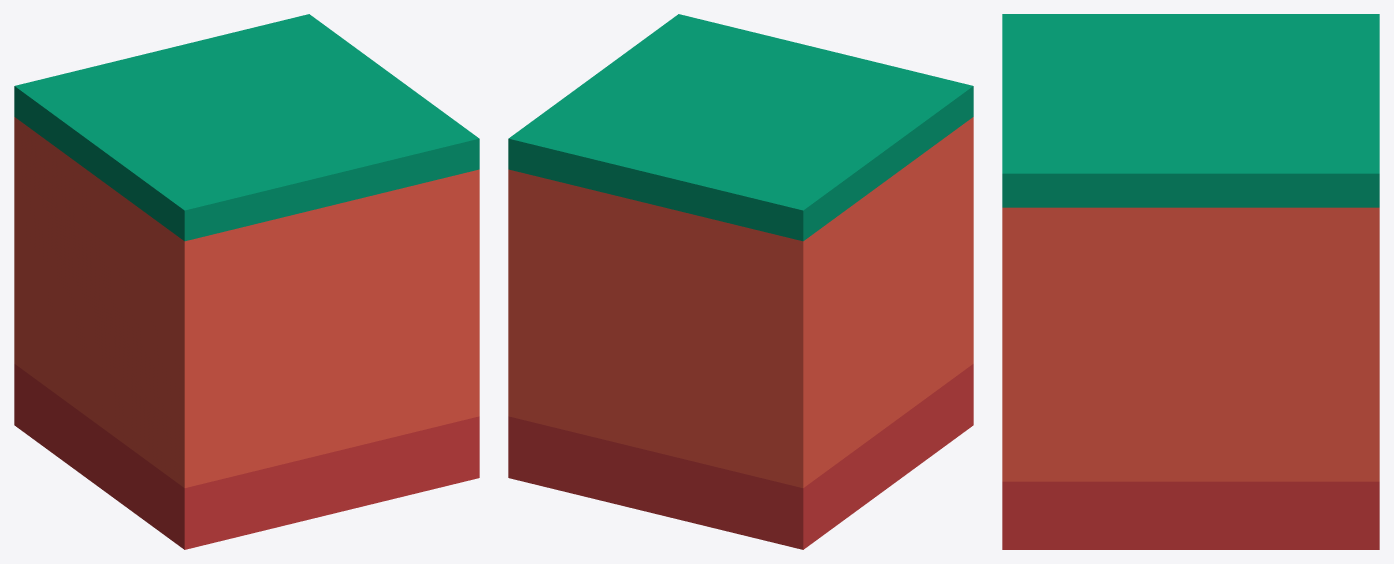
The model's file is Tierra.obj.
3 renders of one model, left to right at view 1: azimuth 30°, elevation 25°; view 2: azimuth 150°, elevation 25°; view 3: azimuth 270°, elevation 25°, orthographic. The views are drawn at different scales.
Visible parts, largest first — view 1: mergedBlocks; view 2: mergedBlocks; view 3: mergedBlocks.
Boxes of the visible parts, <box> form: mergedBlocks: <box>14,14,479,549</box>; mergedBlocks: <box>508,14,973,549</box>; mergedBlocks: <box>1002,14,1379,549</box>.
Size of the model in its own units: 1 by 1.1 by 1.
